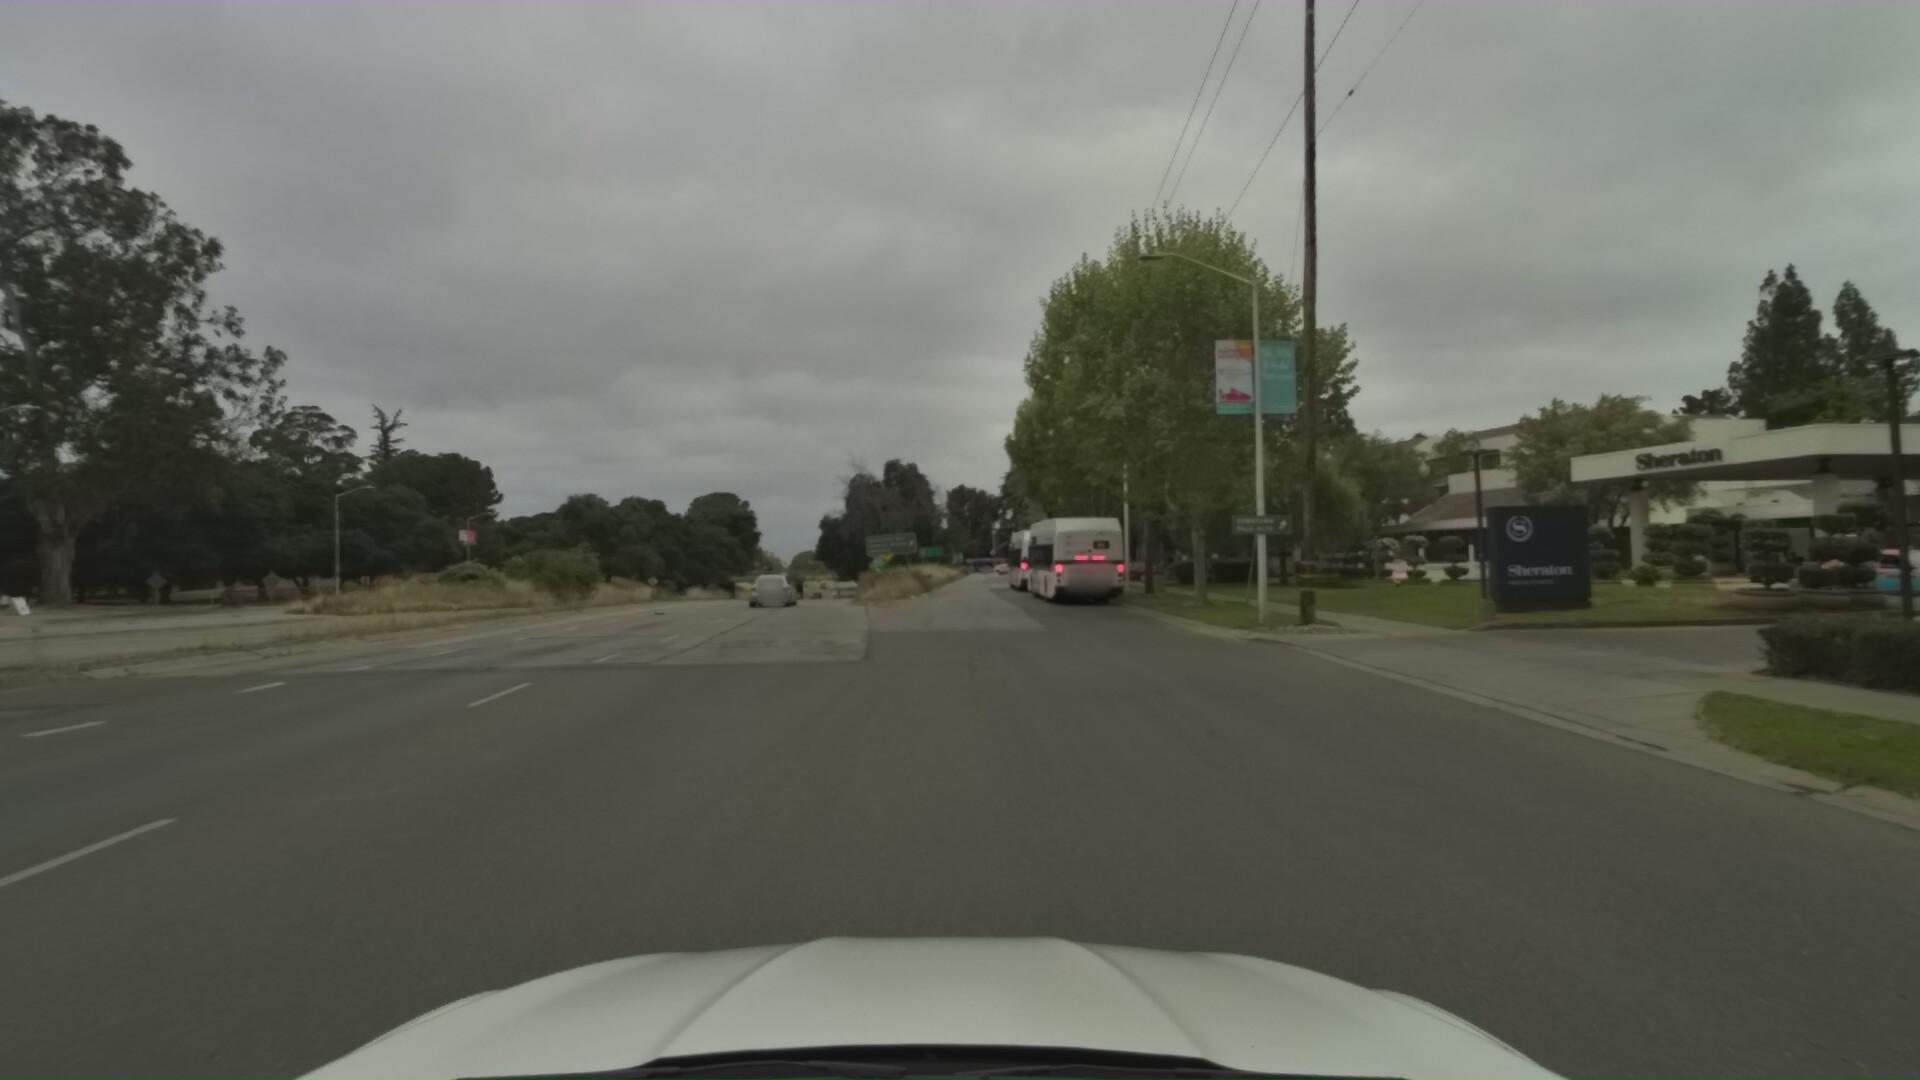bus: (1021, 498, 1137, 604), (1004, 516, 1076, 589)
car: (1778, 534, 1920, 601), (745, 563, 804, 608), (1370, 547, 1431, 585)
